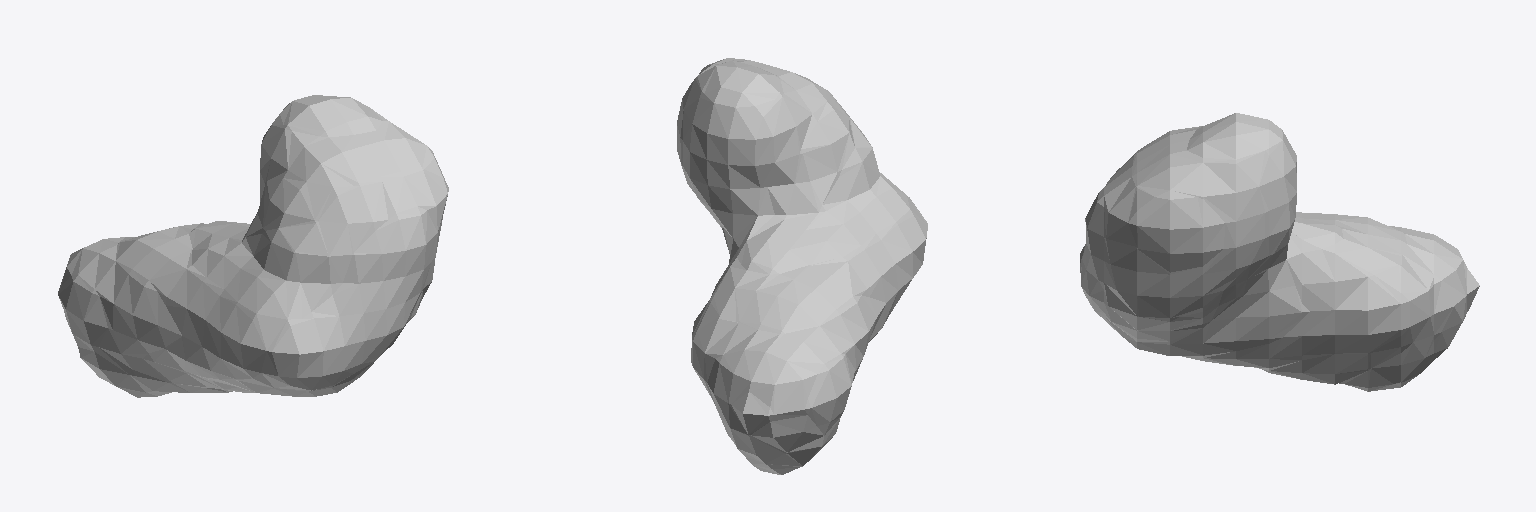
Rendered from 1ise_cms.obj.
The picture shows the model from 3 angles: view 1: azimuth 30°, elevation 25°; view 2: azimuth 150°, elevation 25°; view 3: azimuth 270°, elevation 25°; orthographic projection.
Size of the model in its own units: 54.79 by 64.56 by 73.3.